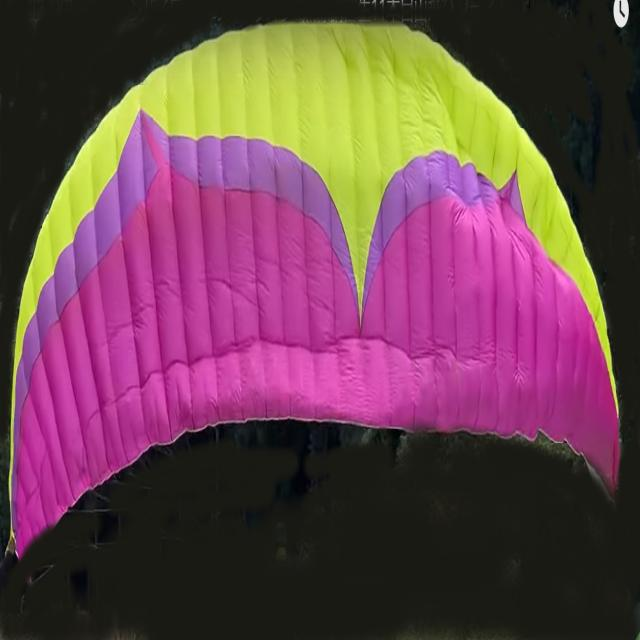paraglider: (6, 17, 622, 568)
